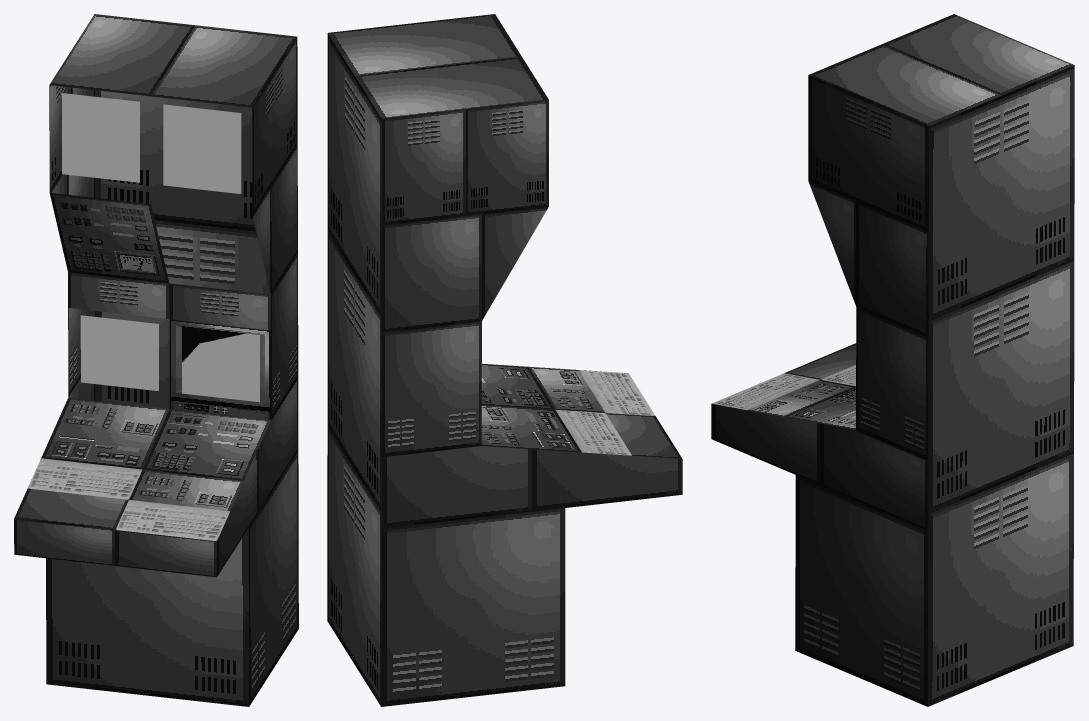
Rendered from primary_183.glb.
3 renders of one model, left to right at view 1: azimuth 30°, elevation 25°; view 2: azimuth 150°, elevation 25°; view 3: azimuth 270°, elevation 25°, orthographic. The views are drawn at different scales.
Parts seen in each view (by area): view 1: Object; view 2: Object; view 3: Object.
Part boxes in pixels (x1,y1,x2,y2): Object: (14,14,298,706); Object: (327,14,682,706); Object: (711,14,1074,706).
Bounding box in the file's own units: 1.73 × 3.05 × 1.73.
26 materials, 26 textured.
